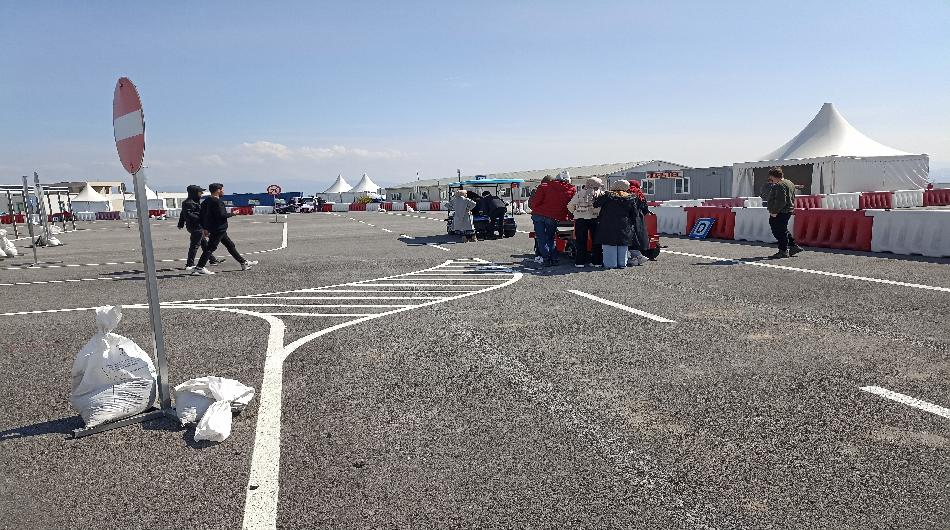yol_calismasi: (273, 253, 537, 355)
